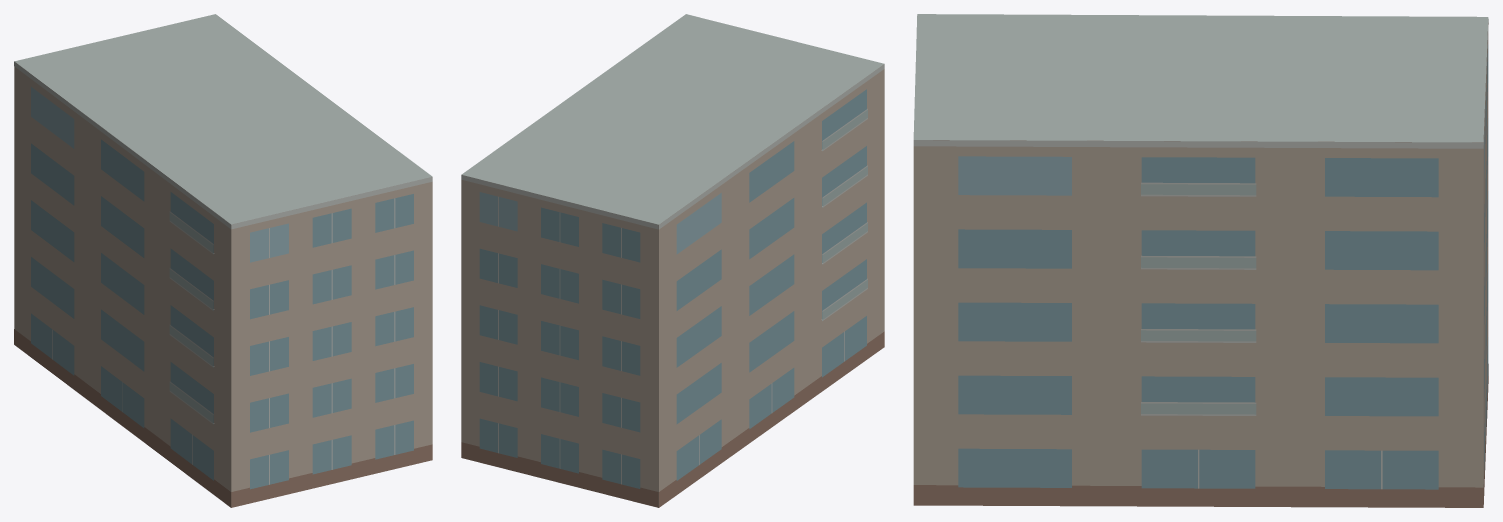
File: survey-upis-32924981.glb
The picture shows the model from 3 angles, left to right: view 1: azimuth 30°, elevation 25°; view 2: azimuth 150°, elevation 25°; view 3: azimuth 270°, elevation 25°; orthographic projection. The views are drawn at different scales.
Parts seen in each view (by area): view 1: survey-upis-32924981.tmp; view 2: survey-upis-32924981.tmp; view 3: survey-upis-32924981.tmp.
Part boxes in pixels (x1=…): survey-upis-32924981.tmp: x1=14, y1=14, x2=432, y2=507; survey-upis-32924981.tmp: x1=461, y1=14, x2=884, y2=507; survey-upis-32924981.tmp: x1=913, y1=14, x2=1488, y2=507.
Bounding box in the file's own units: 10.63 × 14.07 × 20.07.
